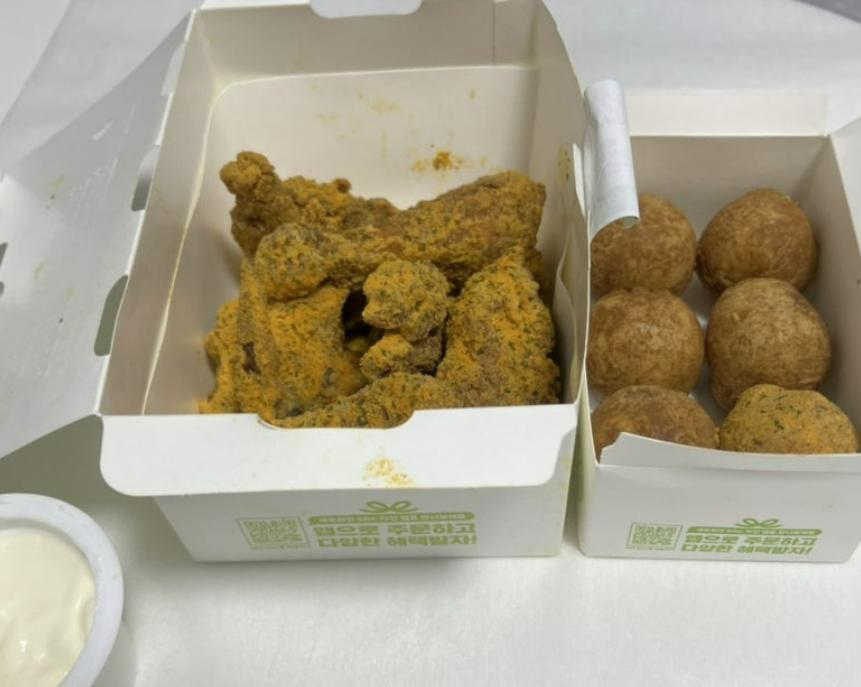Lunch Box: (0, 0, 638, 561), (576, 93, 860, 561)
cup: (0, 494, 135, 686)
